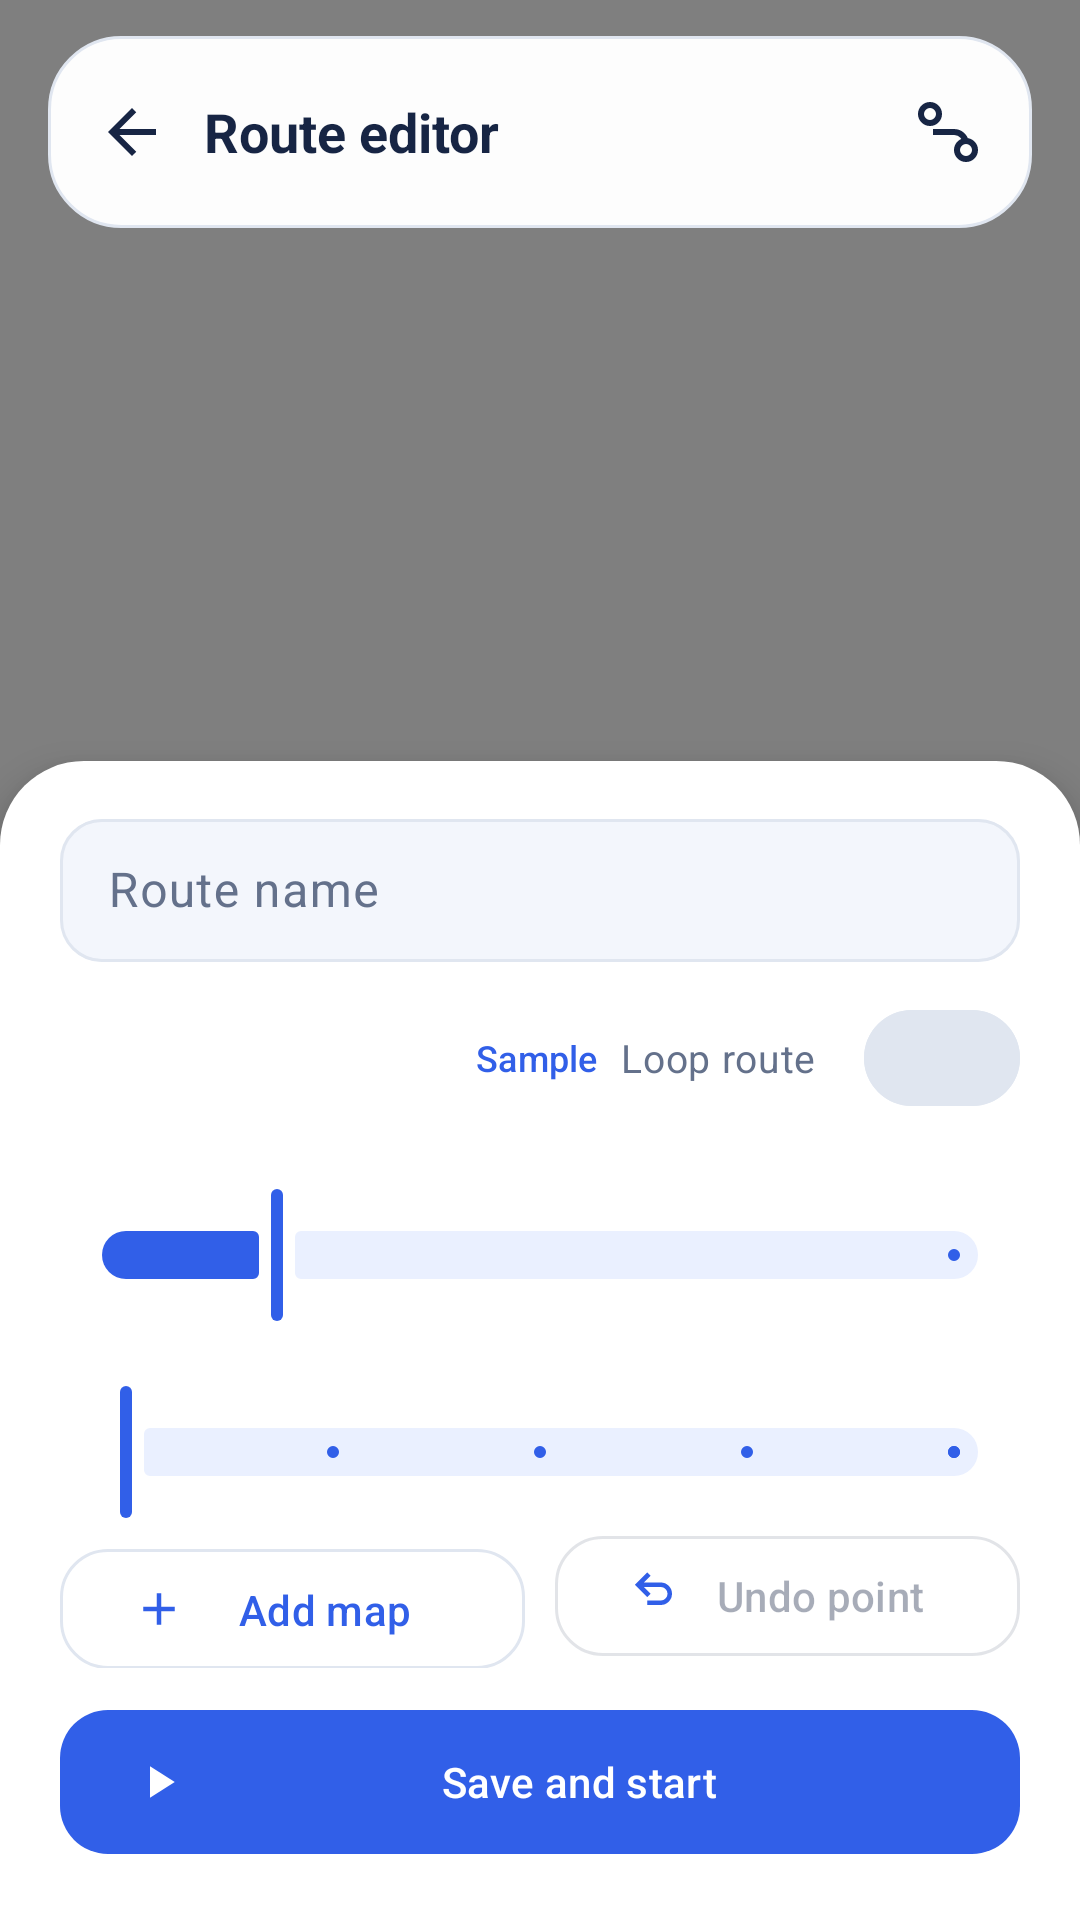

Icon click points for this 1080×1920 phone screenshot, format (x=x, y=y):
Back: (x=132, y=132)
Saved routes: (x=948, y=132)
